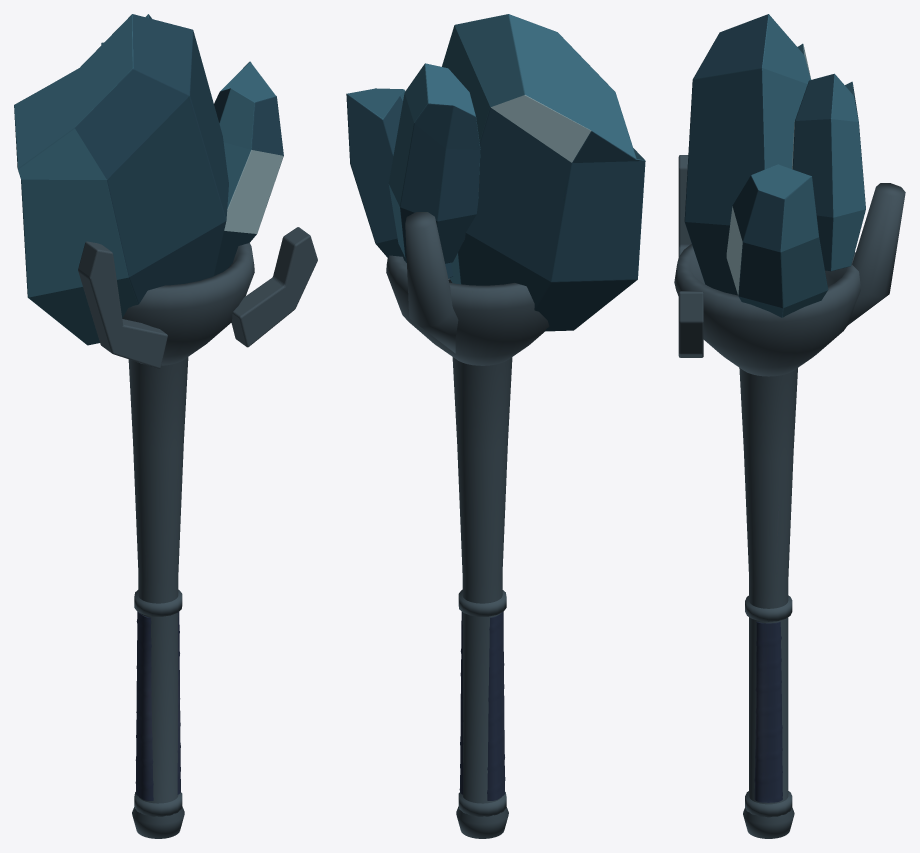
Rendered from hailcaller.glb.
The picture shows the model from 3 angles, left to right: view 1: azimuth 30°, elevation 25°; view 2: azimuth 150°, elevation 25°; view 3: azimuth 270°, elevation 25°; orthographic projection. The views are drawn at different scales.
Visible parts, largest first — view 1: hailcaller_Baked.001 export; view 2: hailcaller_Baked.001 export; view 3: hailcaller_Baked.001 export.
Part boxes in pixels (x1,y1,x2,y2): hailcaller_Baked.001 export: (14,14,317,838); hailcaller_Baked.001 export: (346,14,645,838); hailcaller_Baked.001 export: (674,14,905,838).
Size of the model in its own units: 0.3468 by 0.995 by 0.2597.
1 material, 1 textured.
